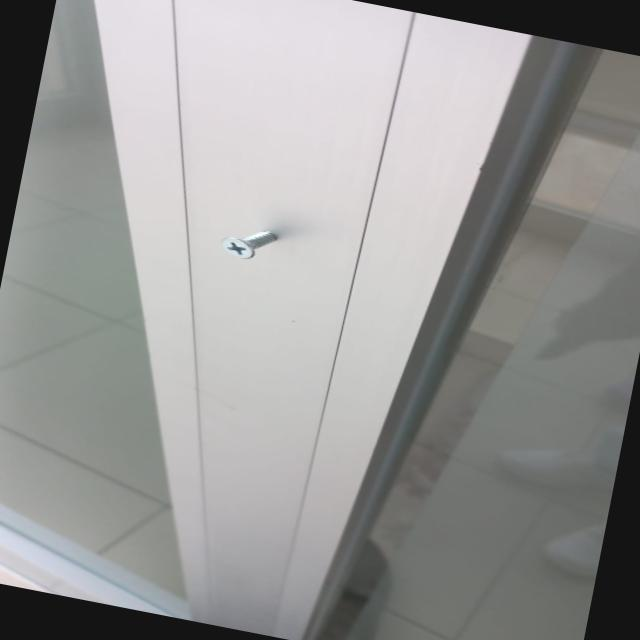Phillips: (208, 230, 264, 268)
